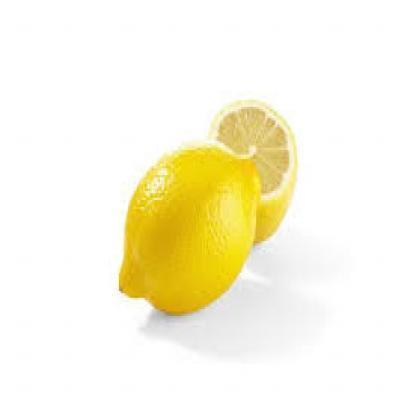lemon: (118, 143, 262, 314), (210, 97, 298, 246)
